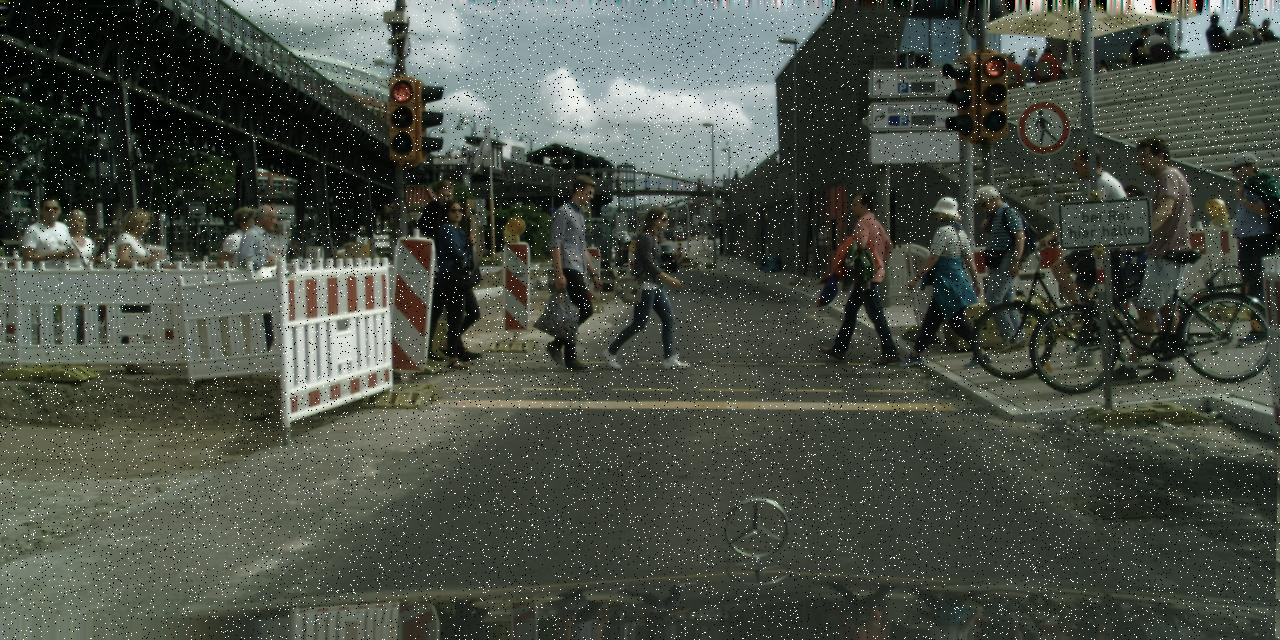ped: (1099, 137, 1199, 381), (534, 176, 614, 370), (1052, 145, 1124, 324), (409, 180, 482, 356), (1215, 152, 1279, 346), (910, 196, 980, 366), (12, 194, 82, 363), (827, 193, 895, 361), (100, 207, 168, 374), (967, 185, 1034, 349), (419, 200, 484, 358), (618, 206, 682, 366), (42, 208, 106, 362), (211, 206, 274, 360), (230, 206, 292, 358), (1104, 183, 1165, 333), (0, 214, 18, 266), (196, 224, 210, 258), (731, 169, 739, 189), (460, 145, 466, 161), (466, 146, 471, 160), (450, 150, 459, 156), (449, 165, 455, 169)
